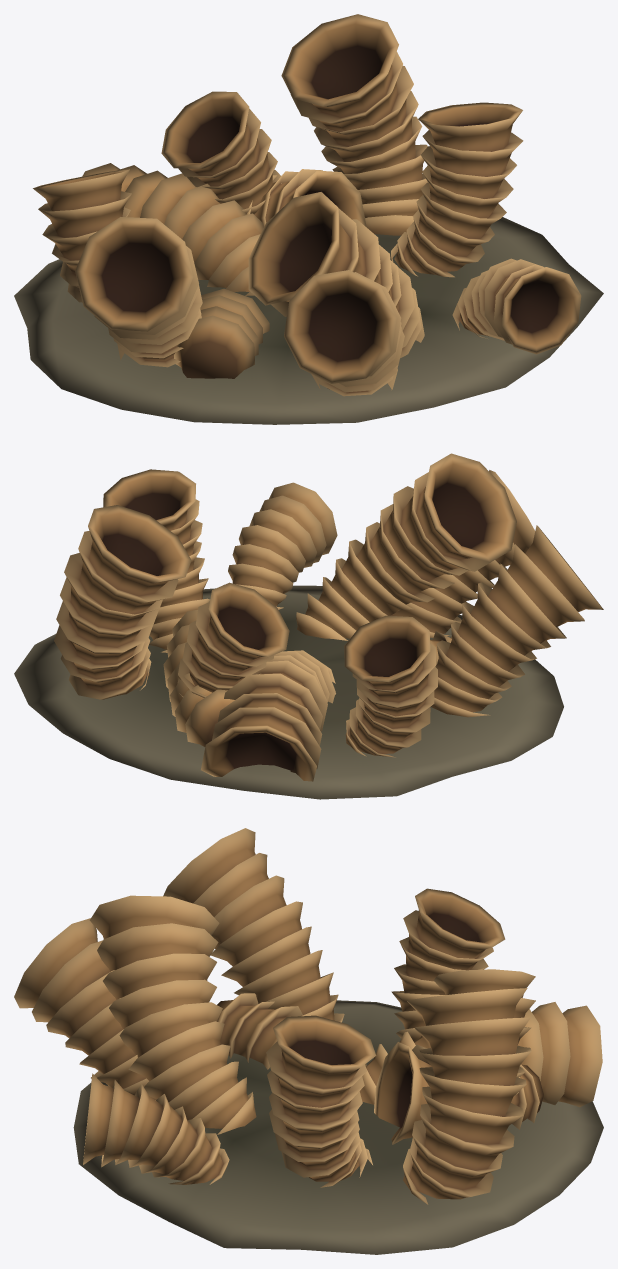
Rendered from Conotubus.fbx.
3 views of the same model, one above another, from view 1: azimuth 30°, elevation 25°; view 2: azimuth 150°, elevation 25°; view 3: azimuth 270°, elevation 25° (orthographic). The views are drawn at different scales.
Visible parts, largest first — view 1: Conotubus; view 2: Conotubus; view 3: Conotubus.
Part boxes in pixels (box(x1,y1,x2,y2)): Conotubus: box(14, 14, 603, 424); Conotubus: box(14, 453, 603, 799); Conotubus: box(14, 828, 603, 1254).
Size of the model in its own units: 0.7775 by 0.2862 by 0.7343.
